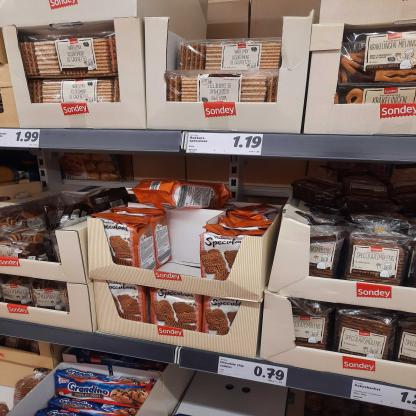prtg: (351, 380, 415, 413), (219, 357, 289, 387), (186, 133, 264, 156), (1, 130, 41, 148)
